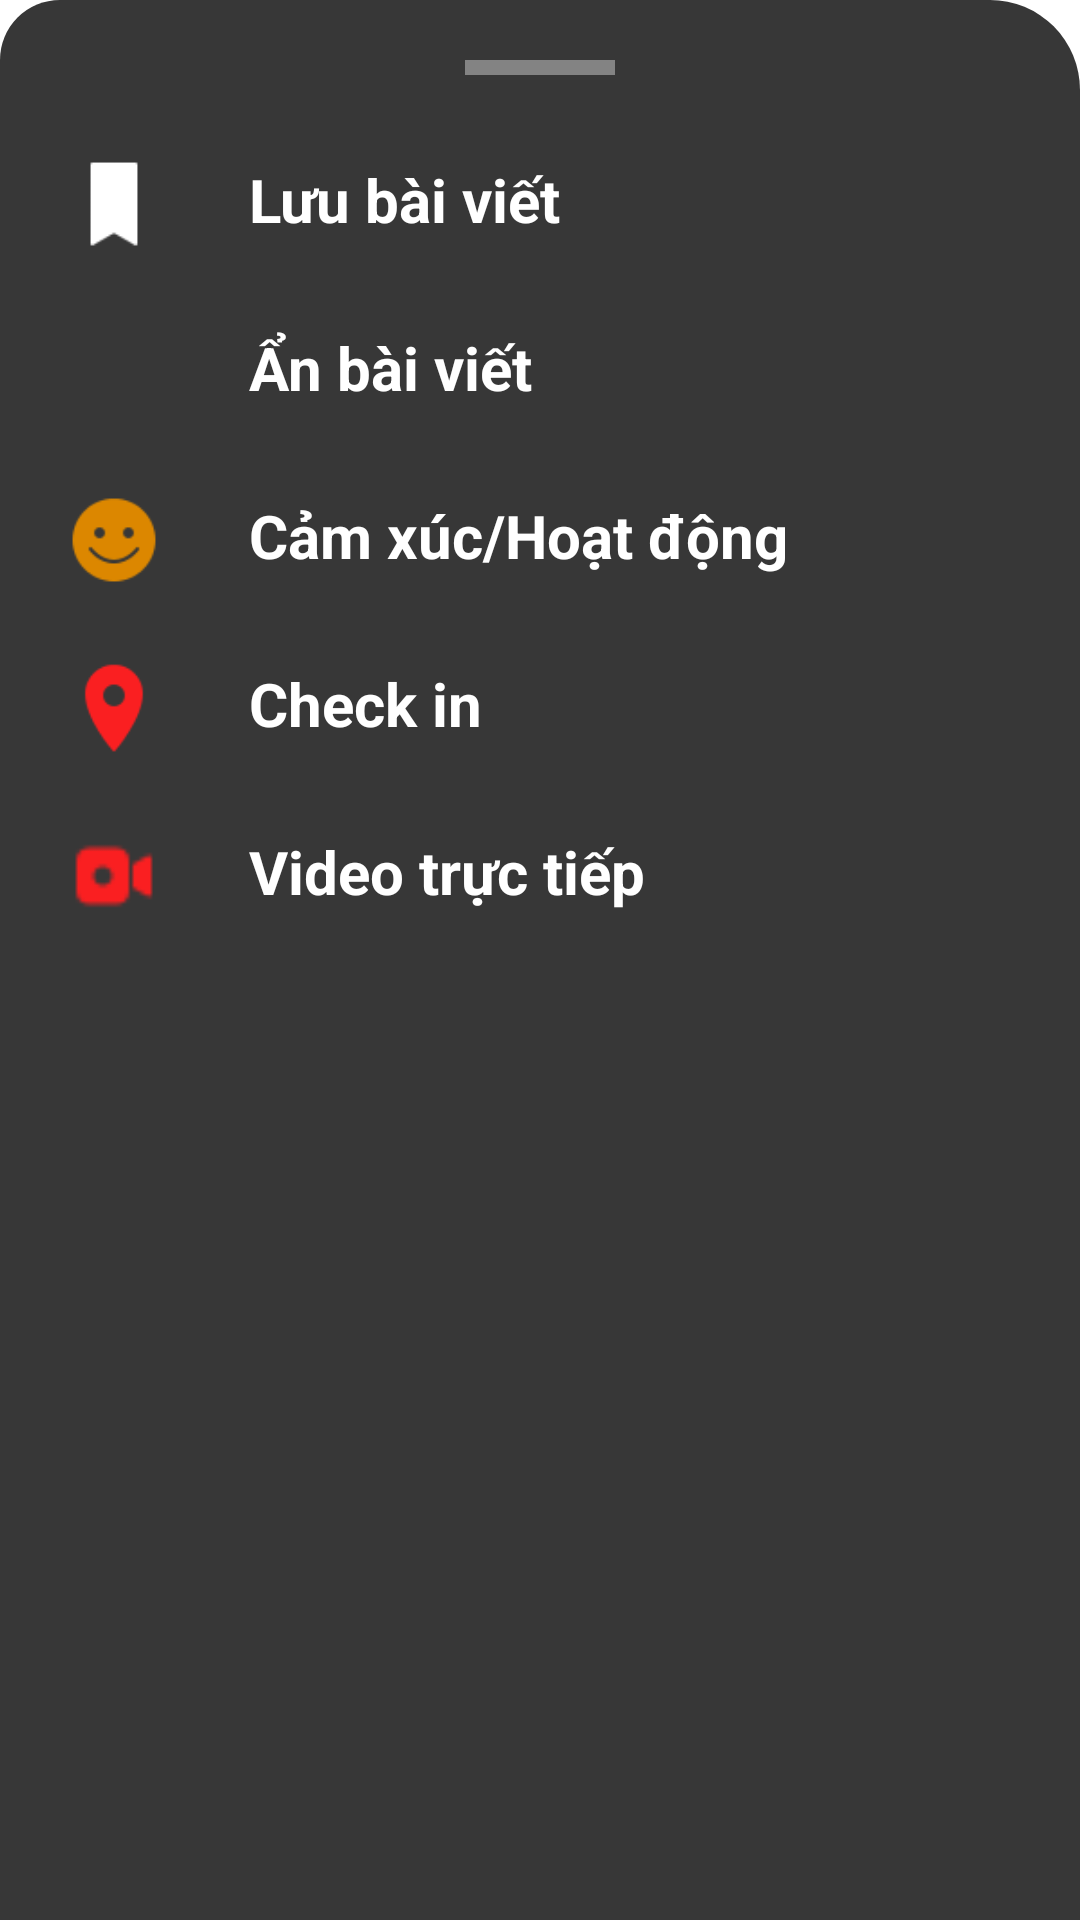

Screen size 1080w x 1920h. Icon name, then its center in pixels as [x,y]:
bookmark: [114,204]
emoji: [114,540]
location: [114,708]
stream: [114,876]
